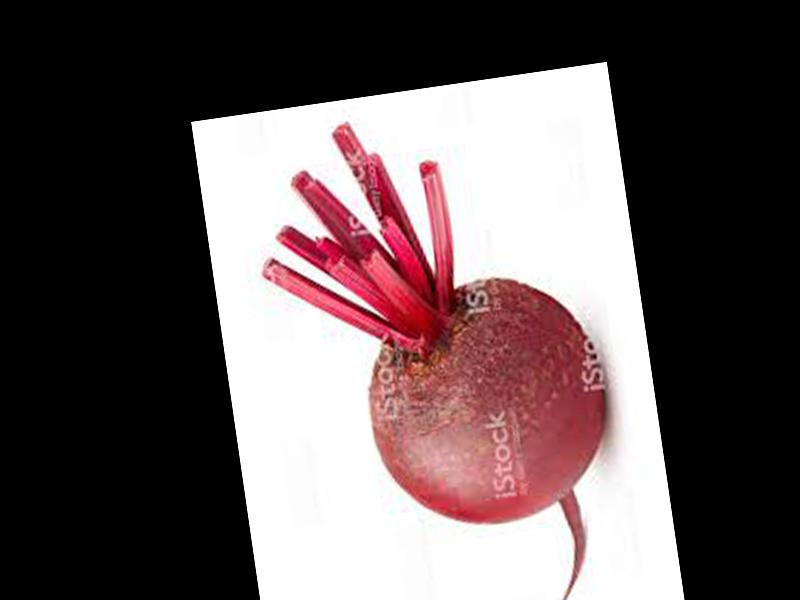Beet: (244, 93, 631, 600)
